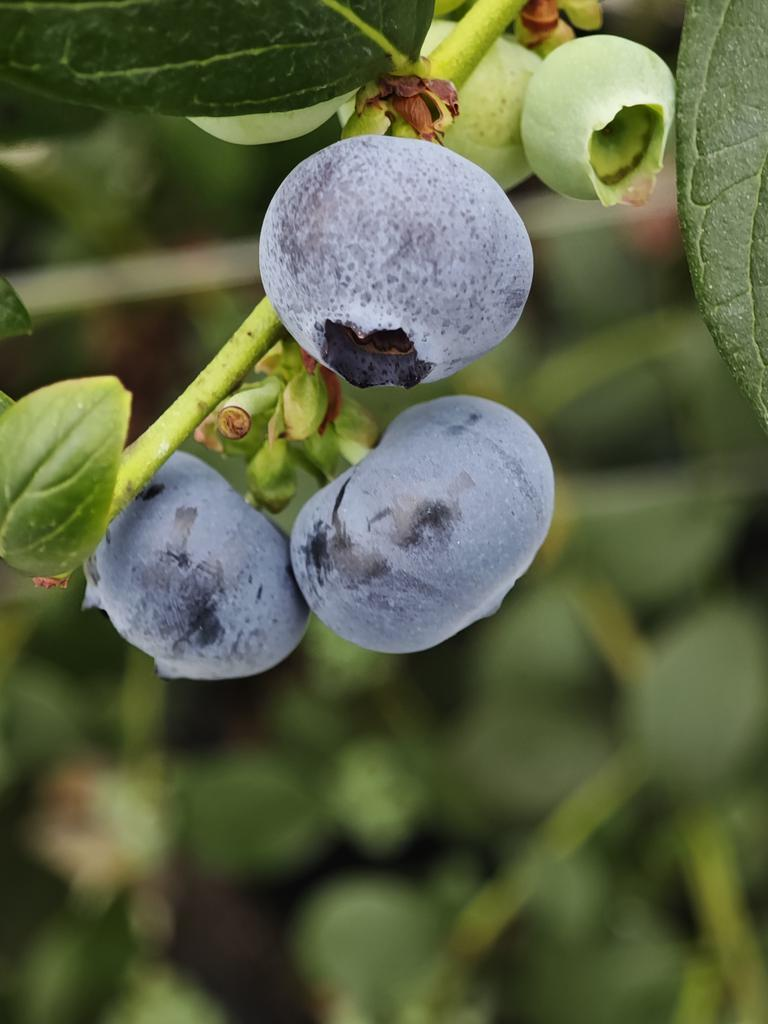RipeBlueBerry: (269, 139, 540, 389), (296, 404, 559, 656), (69, 441, 310, 674)
UnripeBlueBerry: (527, 30, 674, 210)
